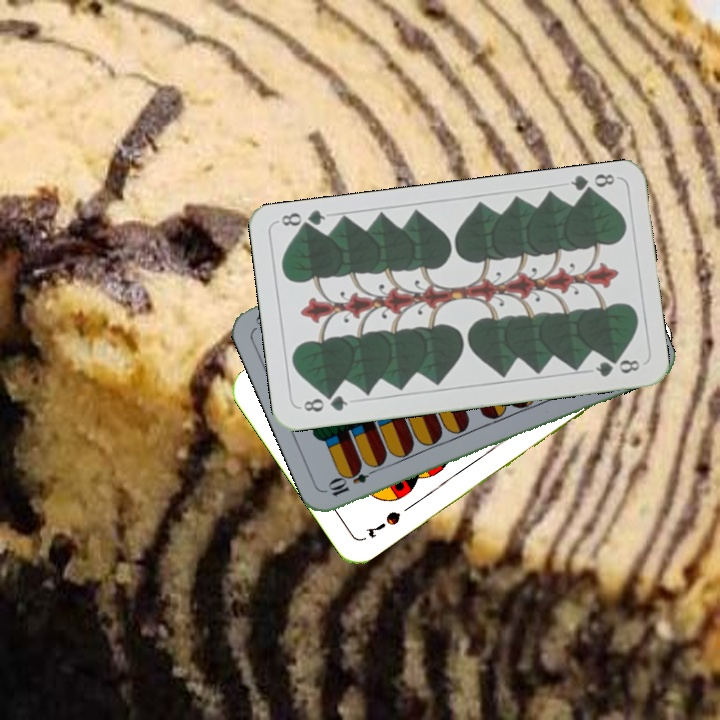E10: (324, 462, 381, 499)
G8: (566, 169, 617, 200), (299, 390, 351, 415)
S7: (361, 507, 404, 541)
